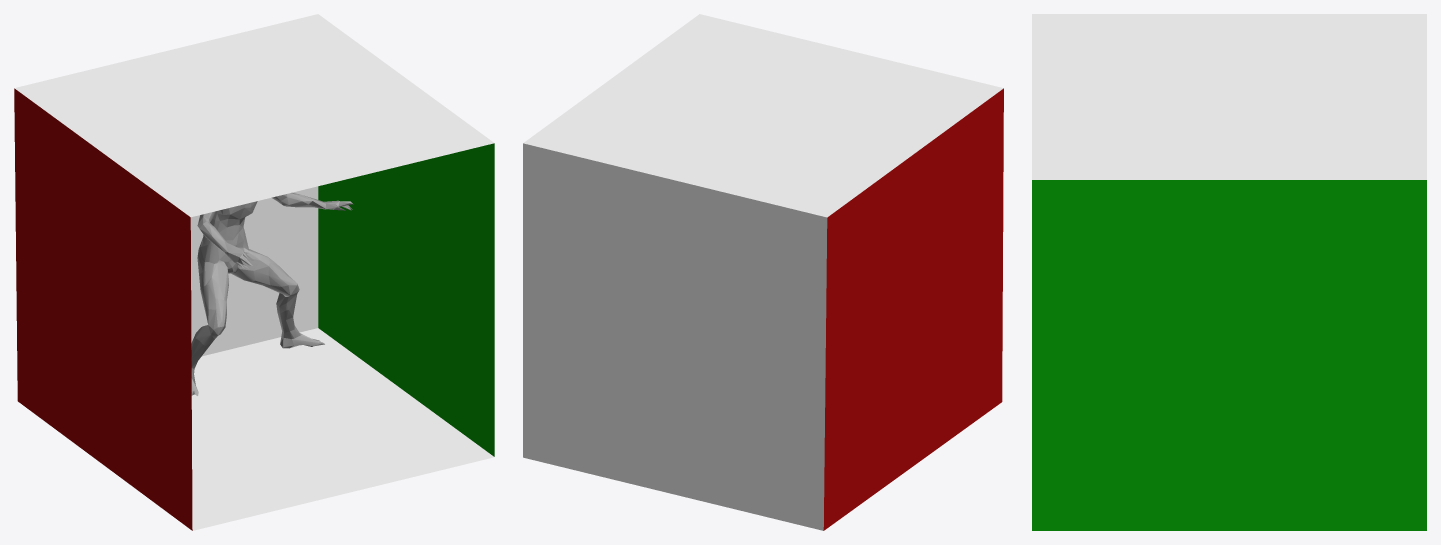
File: cornell_box_catmull_clark_mesh1.fbx
3 renders of one model, left to right at view 1: azimuth 30°, elevation 25°; view 2: azimuth 150°, elevation 25°; view 3: azimuth 270°, elevation 25°, orthographic. The views are drawn at different scales.
Visible parts, largest first — view 1: object2, object4, object3, smoothed_mesh; view 2: object2, object4; view 3: object3, object2.
Boxes of the visible parts, x1,y1,x2,y2 form: object2: (14, 14, 494, 530); object4: (14, 88, 192, 530); object3: (318, 143, 494, 456); smoothed_mesh: (191, 192, 353, 395); object2: (523, 14, 1003, 530); object4: (823, 88, 1003, 530); object3: (1032, 180, 1426, 530); object2: (1032, 14, 1426, 179).
Bounding box in the file's own units: 23.28 × 22.98 × 23.41.
